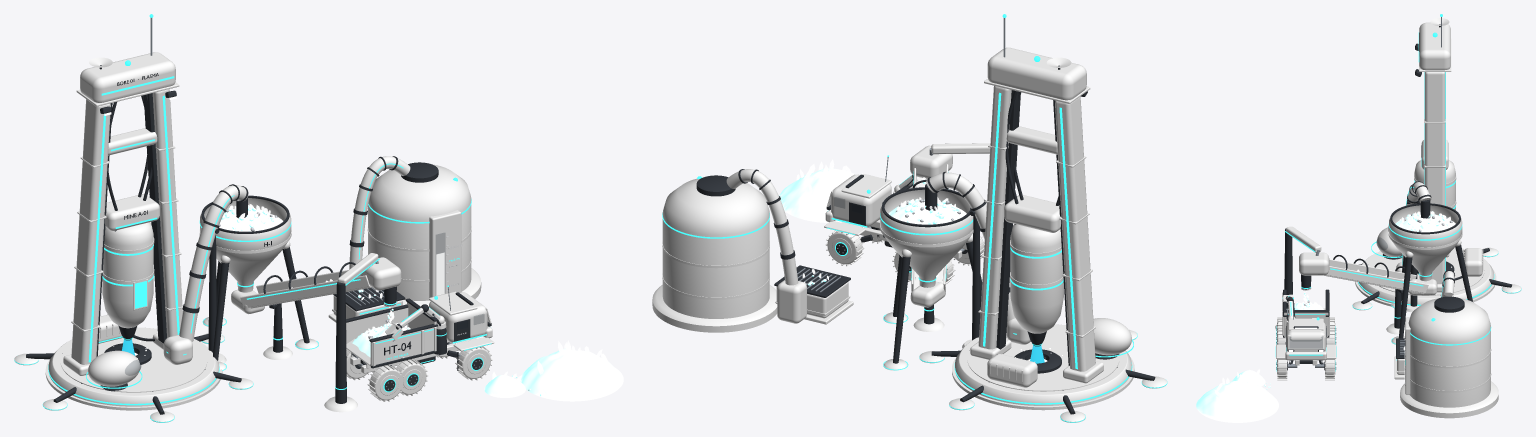
Rendered from b_sleek_hightech_master.glb.
3 renders of one model, left to right at view 1: azimuth 30°, elevation 25°; view 2: azimuth 150°, elevation 25°; view 3: azimuth 270°, elevation 25°, orthographic. The views are drawn at different scales.
Parts seen in each view (by area): view 1: silo, leg, bore_housing, deposit, leg.001, crown, deck, pad, hopper, spine, transfer_tube, rail.001 (+23 smaller); view 2: silo, leg, bore_housing, leg.001, crown, hopper, pad, deck, deposit, silo_plinth, rail.001, lift_tube (+26 smaller); view 3: silo, leg.001, deposit, hopper, crown, silo_plinth, pad, trough_wall.001, deck, head_housing, bore_housing, cab (+18 smaller).
Part boxes in pixels (x1,y1,x2,y2): silo: (368,164,471,300); leg: (71,99,110,364); bore_housing: (102,222,153,328); deposit: (521,348,623,401); leg.001: (152,89,182,337); crown: (80,52,175,102); deck: (60,330,207,392); pad: (48,327,219,406); hopper: (200,213,291,292); spine: (429,210,461,297); transfer_tube: (179,185,248,341); rail.001: (143,93,166,343); silo: (662,178,769,318); leg: (1055,96,1095,371); bore_housing: (1010,224,1063,333); leg.001: (978,85,1011,349); crown: (987,47,1086,100); hopper: (880,206,973,287); pad: (955,324,1131,405); deck: (967,326,1119,391); deposit: (779,168,856,222); silo_plinth: (652,285,777,332); rail.001: (996,90,1020,349); lift_tube: (726,169,798,285); silo: (1408,298,1490,407); leg.001: (1424,72,1445,283); deposit: (1196,380,1278,422); hopper: (1389,218,1462,281); crown: (1419,22,1450,70); silo_plinth: (1400,381,1498,418); pad: (1358,247,1493,305); trough_wall.001: (1326,266,1428,293); deck: (1368,248,1484,295); head_housing: (1299,252,1329,275); bore_housing: (1414,160,1455,210); cab: (1286,322,1325,351).
Bounding box in the file's own units: 27.34 × 19.23 × 20.44.
